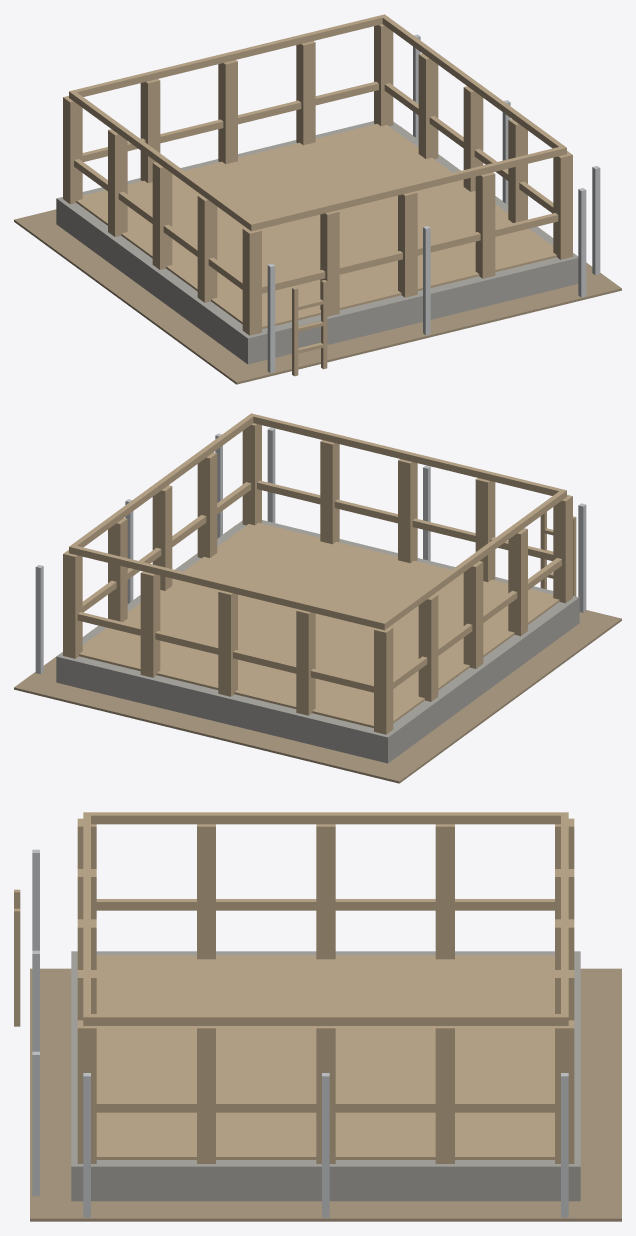
File: orchard_site_4.glb
3 views of the same model, one above another, from view 1: azimuth 30°, elevation 25°; view 2: azimuth 150°, elevation 25°; view 3: azimuth 270°, elevation 25° (orthographic). The views are drawn at different scales.
Parts seen in each view (by area): view 1: body; view 2: body; view 3: body.
Boxes of the visible parts, x1,y1,x2,y2 form: body: (14,14,621,384); body: (14,413,621,783); body: (14,812,621,1221).
Size of the model in its own units: 1.86 by 0.63 by 1.91.
